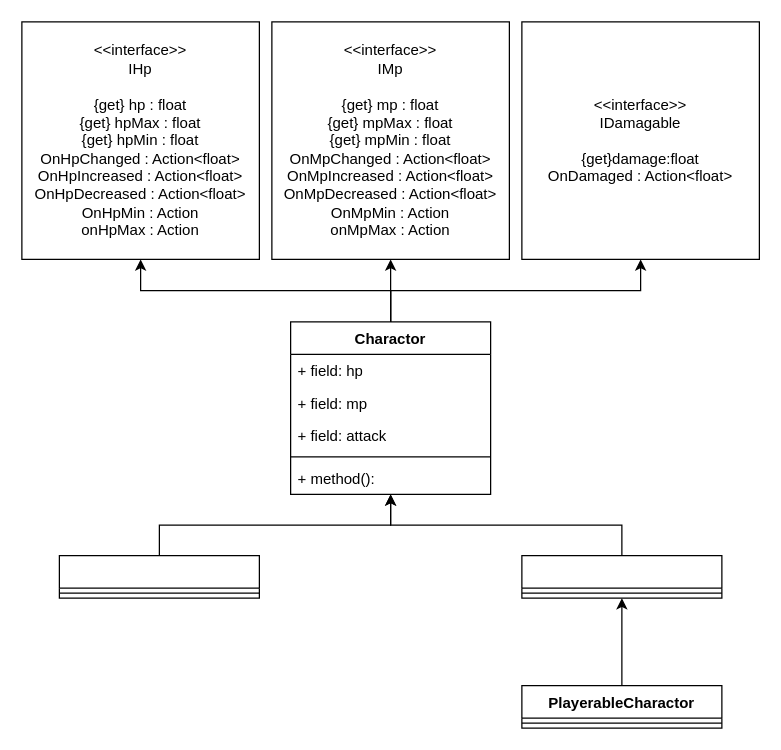
Image size: 781x750. Some labels were removed from this diagram. The shapes that lost their labels are listed below. From the top down, each one's centre as x and y in pixels, then its label:
At (x=158, y=576): "Enemy".
At (x=621, y=576): "Player".
